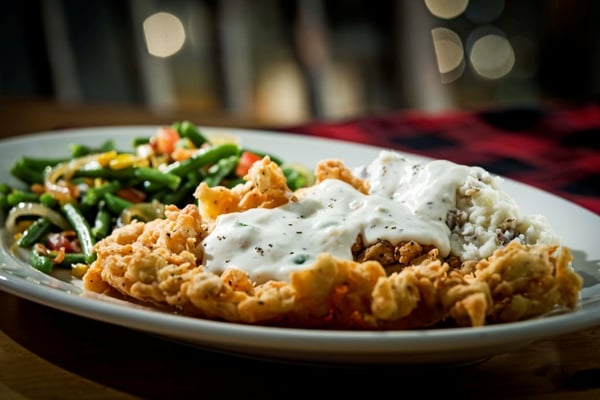curry: (0, 104, 598, 395)
